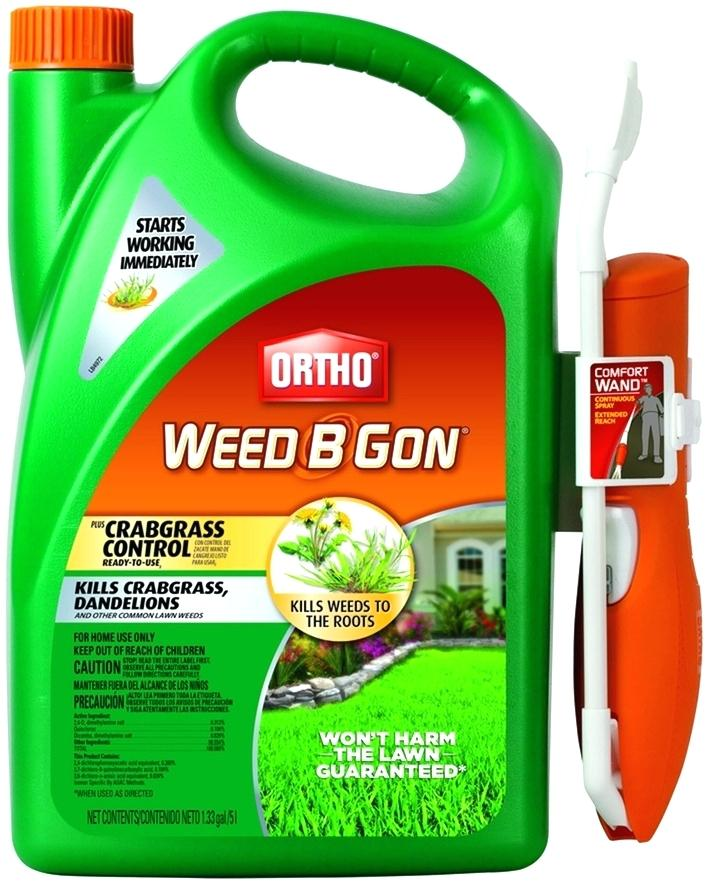crabgrass: (306, 536, 402, 588)
